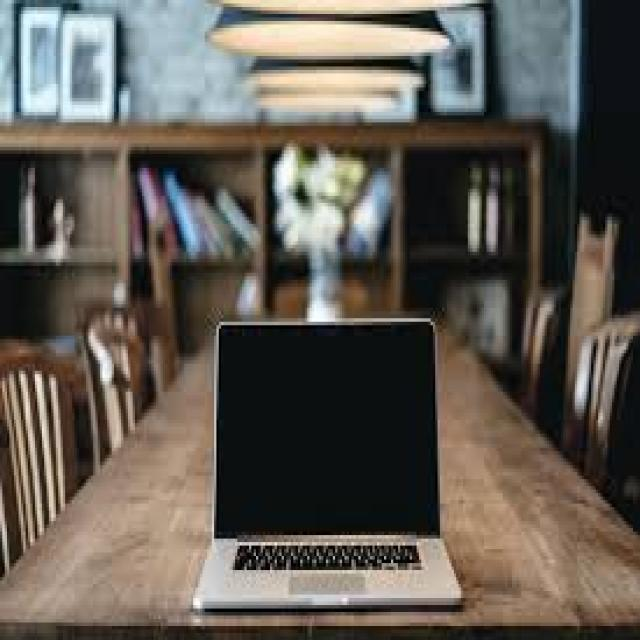others: (177, 297, 477, 616)
